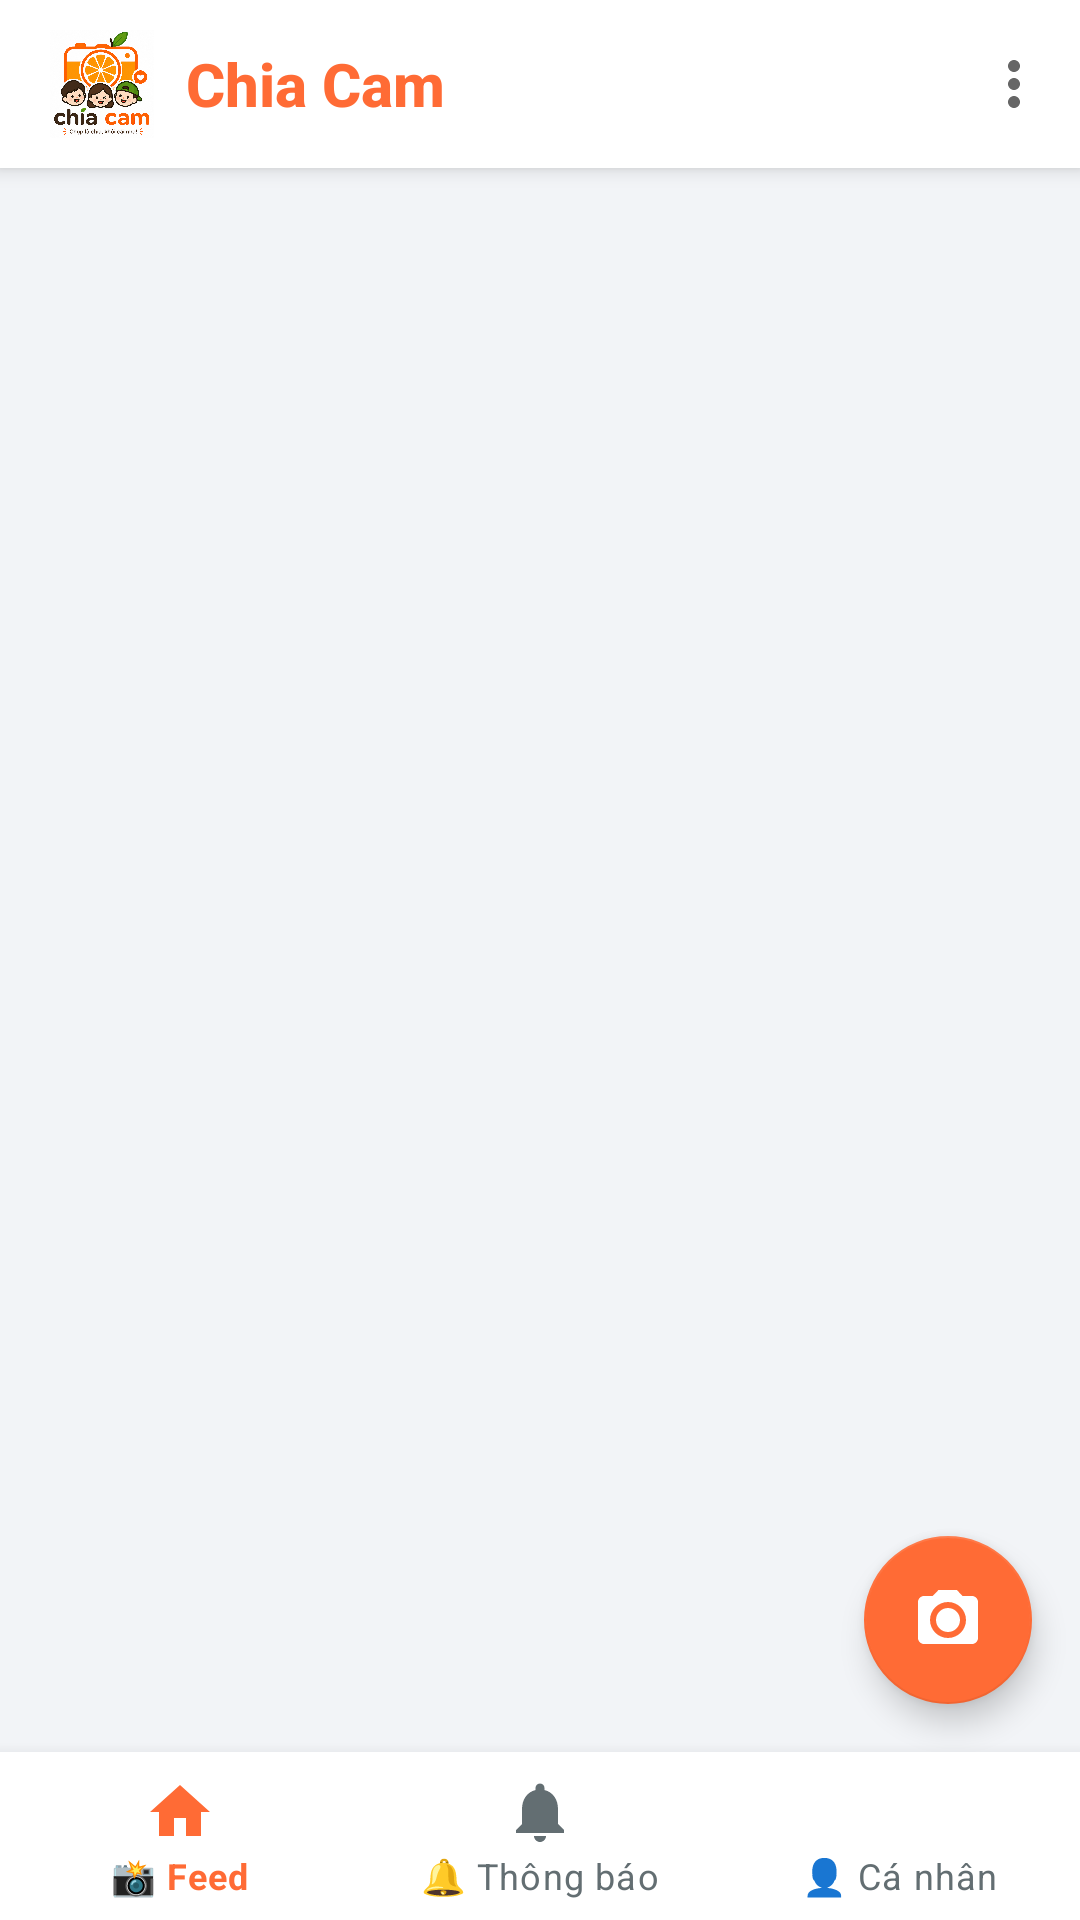

Icon click points for this 1080 x 1920 phone screenshot, format point (x, y):
Chụp bill: point (948, 1620)
